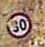limite 30: (4, 10, 32, 38)
